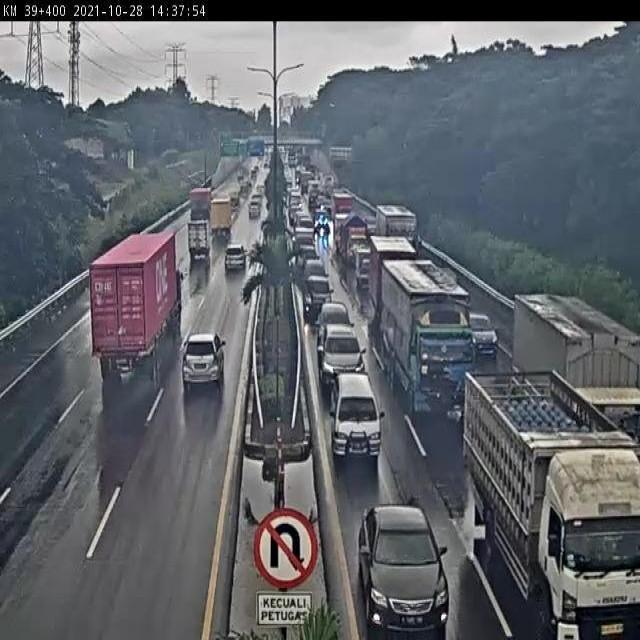car: (188, 223, 214, 261)
truck: (466, 370, 640, 640), (514, 294, 640, 482), (91, 233, 188, 384), (380, 262, 472, 414), (210, 200, 234, 243), (187, 187, 213, 223)
